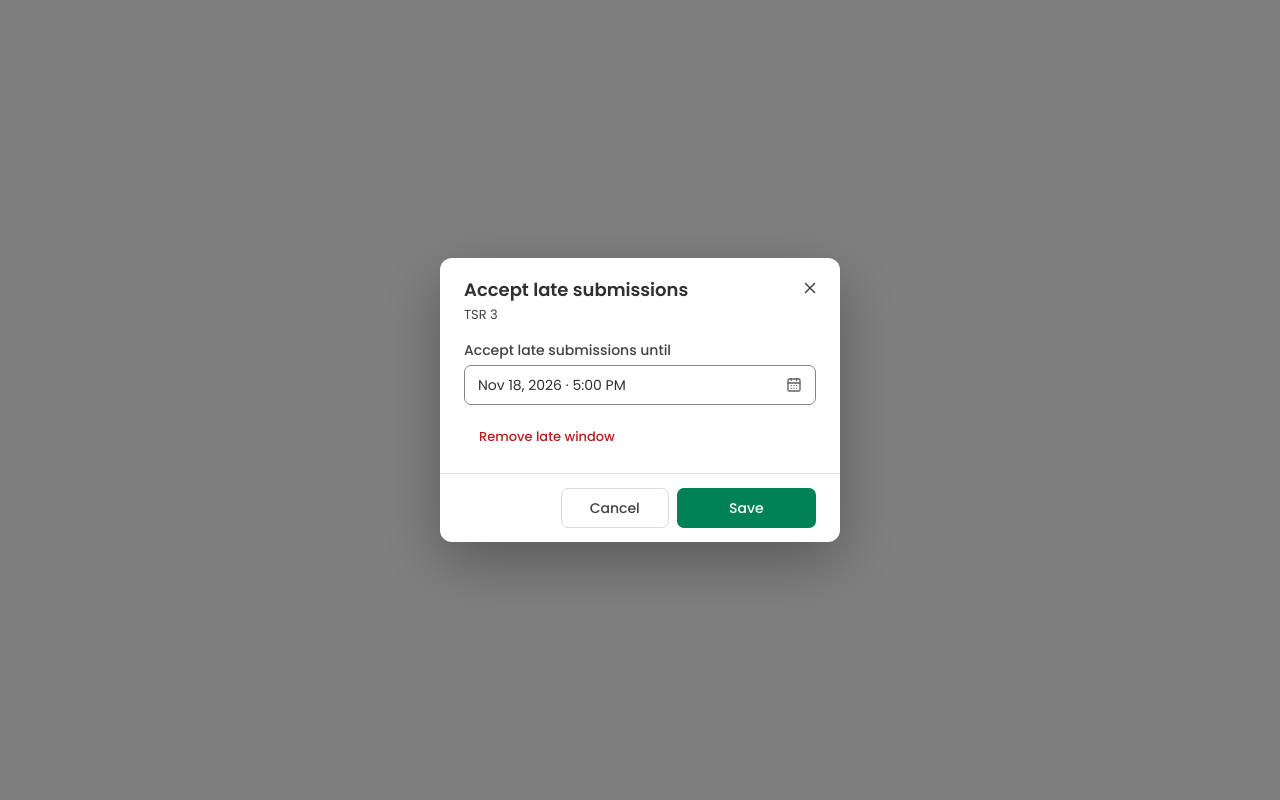
Test: LateWindowModal › gives focus back to "Remove late window" when its confirm is cancelled, and holds Save meanwhile
Click the button "Remove late window": (547, 437) [464,421,630,453]
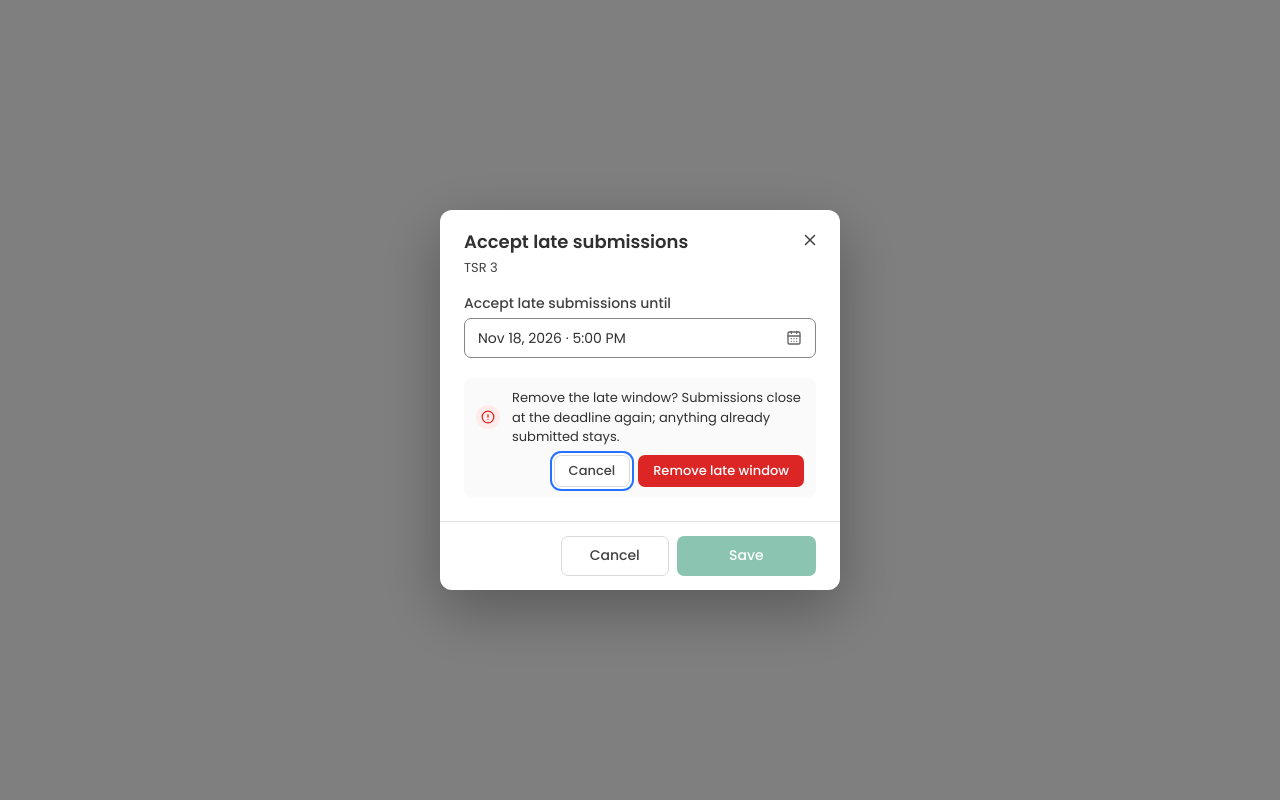
Expected: the button "Save" is disabled, [677,536,816,576]
Click the button "Cancel" below "Accept late submissions until": (592, 471) [554,455,630,487]
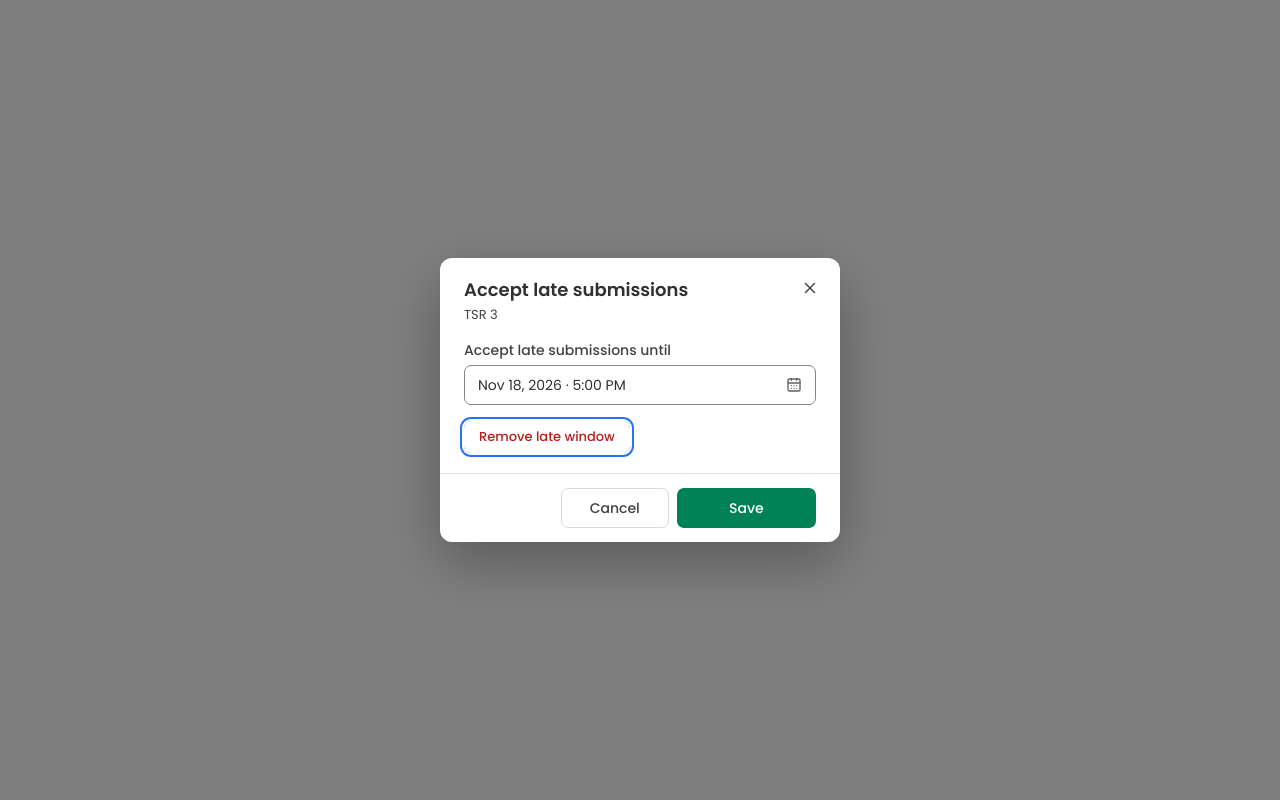
Expected: the button "Save" is enabled, [677,488,816,528]
